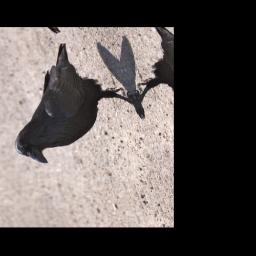Crow: (0, 31, 151, 171)
